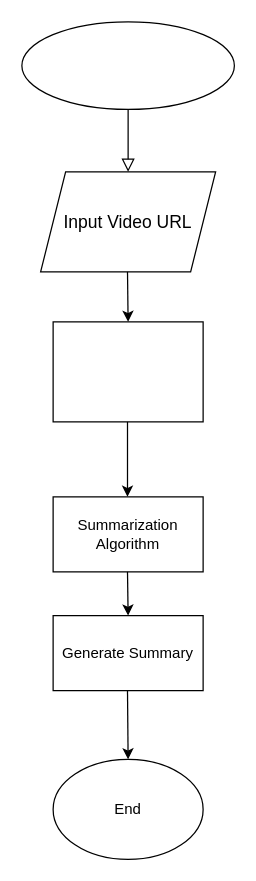
Some shapes in this 256 by 881 pixel diagram are drawn without their labels. The shapes that lost their labels are listed below. From the top down, each one's centre as x and y in pixels, then its label:
At point 127,65: "Start".
At point 127,371: "Extract subtitle through API".
